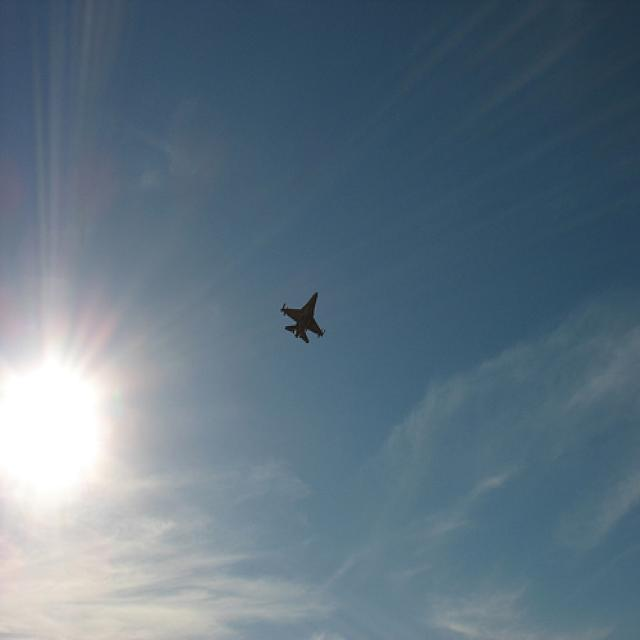aeroplane: (280, 289, 327, 346)
